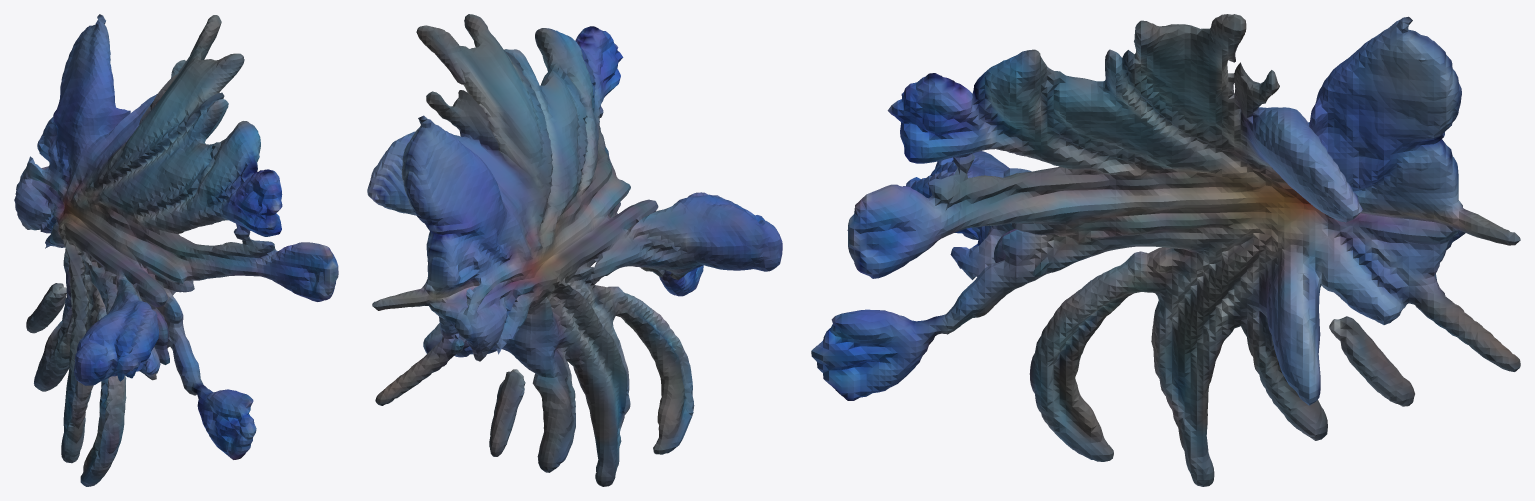
3 renders of one model, left to right at view 1: azimuth 30°, elevation 25°; view 2: azimuth 150°, elevation 25°; view 3: azimuth 270°, elevation 25°, orthographic. The views are drawn at different scales.
Bounding box in the file's own units: 0.4588 × 0.7006 × 0.7765.
